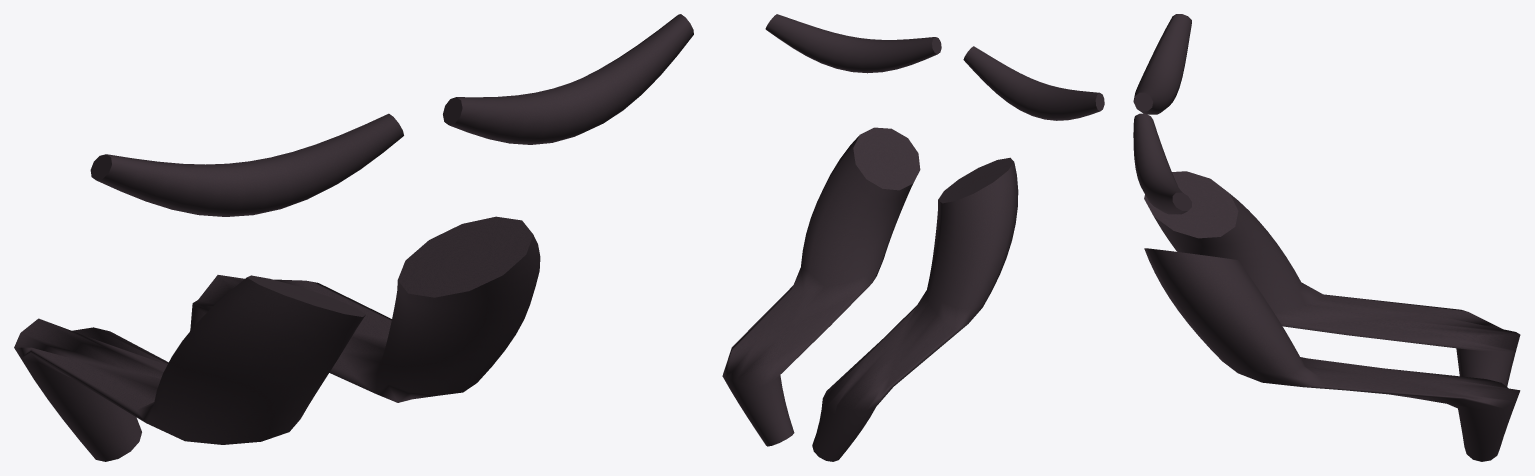
File: facial_van_dyke_default.gltf
The picture shows the model from 3 angles, left to right: view 1: azimuth 30°, elevation 25°; view 2: azimuth 150°, elevation 25°; view 3: azimuth 270°, elevation 25°; orthographic projection. The views are drawn at different scales.
Parts seen in each view (by area): view 1: Van Dyke; view 2: Van Dyke; view 3: Van Dyke.
Part boxes in pixels (bbox=[...]): Van Dyke: bbox=[14, 14, 693, 461]; Van Dyke: bbox=[722, 14, 1104, 461]; Van Dyke: bbox=[1133, 14, 1520, 461].
Bounding box in the file's own units: 0.1872 × 0.1601 × 0.1656.
Materials: 1 (1 with a texture image).
